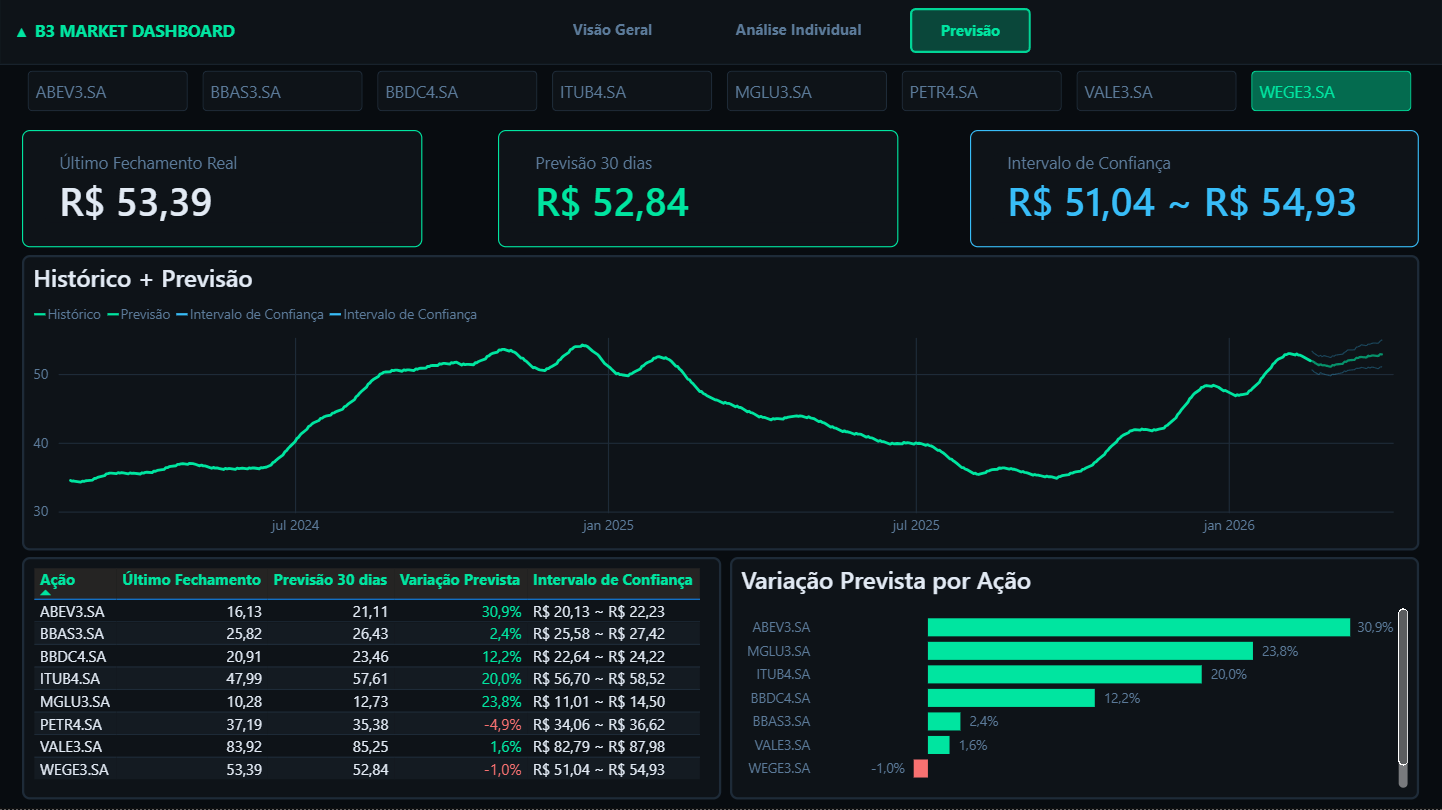

What the dashboard file says about the page in this screenshot:
{"tool":"powerbi","page":{"name":"Página 3","canvas":[1280,720],"ordinal":2},"visuals":[{"type":"slicer","fields":{"Values":["public stocks_forecast.is_forecast"]},"box":[1130.5,0,149.9,23.9],"z":0},{"type":"advancedSlicerVisual","fields":{"Values":["public stocks_forecast.ticker"]},"box":[20.4,60.3,1239,46],"z":1000},{"type":"shape","box":[0,0,1280.4,60.3],"z":2000},{"type":"textbox","box":[10.6,14.2,207.5,30.1],"z":3000},{"type":"actionButton","title":"Visão Geral","box":[493.9,8.9,100.2,39.9],"z":4000},{"type":"actionButton","title":"Visão Geral","box":[634,8.9,149.9,39.9],"z":5000},{"type":"actionButton","title":"Visão Geral","box":[807.8,9.8,107.3,39.9],"z":6000},{"type":"cardVisual","fields":{"Data":["public stocks_features.Último Close"]},"box":[20.4,117.9,354.7,103.7],"z":7000},{"type":"cardVisual","fields":{"Data":["public stocks_forecast.Previsão 30 dias"]},"box":[442.5,117.9,354.7,103.7],"z":8000},{"type":"cardVisual","fields":{"Data":["public stocks_forecast.Intervalo de Confiança"]},"box":[861,117.9,398.1,103.7],"z":9000},{"type":"lineChart","title":"Histórico + Previsão","fields":{"Y":["public stocks_forecast.Close Histórico","public stocks_forecast.Close Previsão","Avg(public stocks_forecast.lower_bound)","Avg(public stocks_forecast.upper_bound)"],"Category":["public stocks_forecast.date.Variation.Hierarquia de datas.Ano","public stocks_forecast.date.Variation.Hierarquia de datas.Trimestre","public stocks_forecast.date.Variation.Hierarquia de datas.Mês","public stocks_forecast.date.Variation.Hierarquia de datas.Dia"]},"box":[20.4,228.8,1238.7,262.5],"z":10000},{"type":"barChart","title":"Variação Prevista por Ação","fields":{"Category":["public stocks_forecast.ticker"],"Y":["public stocks_forecast.Variação Prevista %"]},"box":[648.2,496.6,610.9,214.6],"z":11000},{"type":"tableEx","title":"Resumo das Previsões","fields":{"Values":["public stocks_forecast.ticker","public stocks_features.Último Close","public stocks_forecast.Previsão 30 dias","public stocks_forecast.Variação Prevista %","public stocks_forecast.Intervalo de Confiança"]},"box":[20.4,496.6,619.8,214.6],"z":11001}]}

Visuals, with their boxes in screenshot pixels (x1, y1, x2, y2), scaled from the page's 1280x720 canvas onto the 1442x810 screenshot:
slicer - public stocks_forecast.is_forecast: <region>1274, 0, 1441, 27</region>
advancedSlicerVisual - public stocks_forecast.ticker: <region>23, 68, 1419, 120</region>
shape: <region>0, 0, 1441, 68</region>
textbox: <region>12, 16, 246, 50</region>
"Visão Geral" actionButton: <region>556, 10, 669, 55</region>
"Visão Geral" actionButton: <region>714, 10, 883, 55</region>
"Visão Geral" actionButton: <region>910, 11, 1031, 56</region>
cardVisual - public stocks_features.Último Close: <region>23, 133, 423, 249</region>
cardVisual - public stocks_forecast.Previsão 30 dias: <region>499, 133, 898, 249</region>
cardVisual - public stocks_forecast.Intervalo de Confiança: <region>970, 133, 1418, 249</region>
"Histórico + Previsão" lineChart: <region>23, 257, 1418, 553</region>
"Variação Prevista por Ação" barChart: <region>730, 559, 1418, 800</region>
"Resumo das Previsões" tableEx: <region>23, 559, 721, 800</region>
